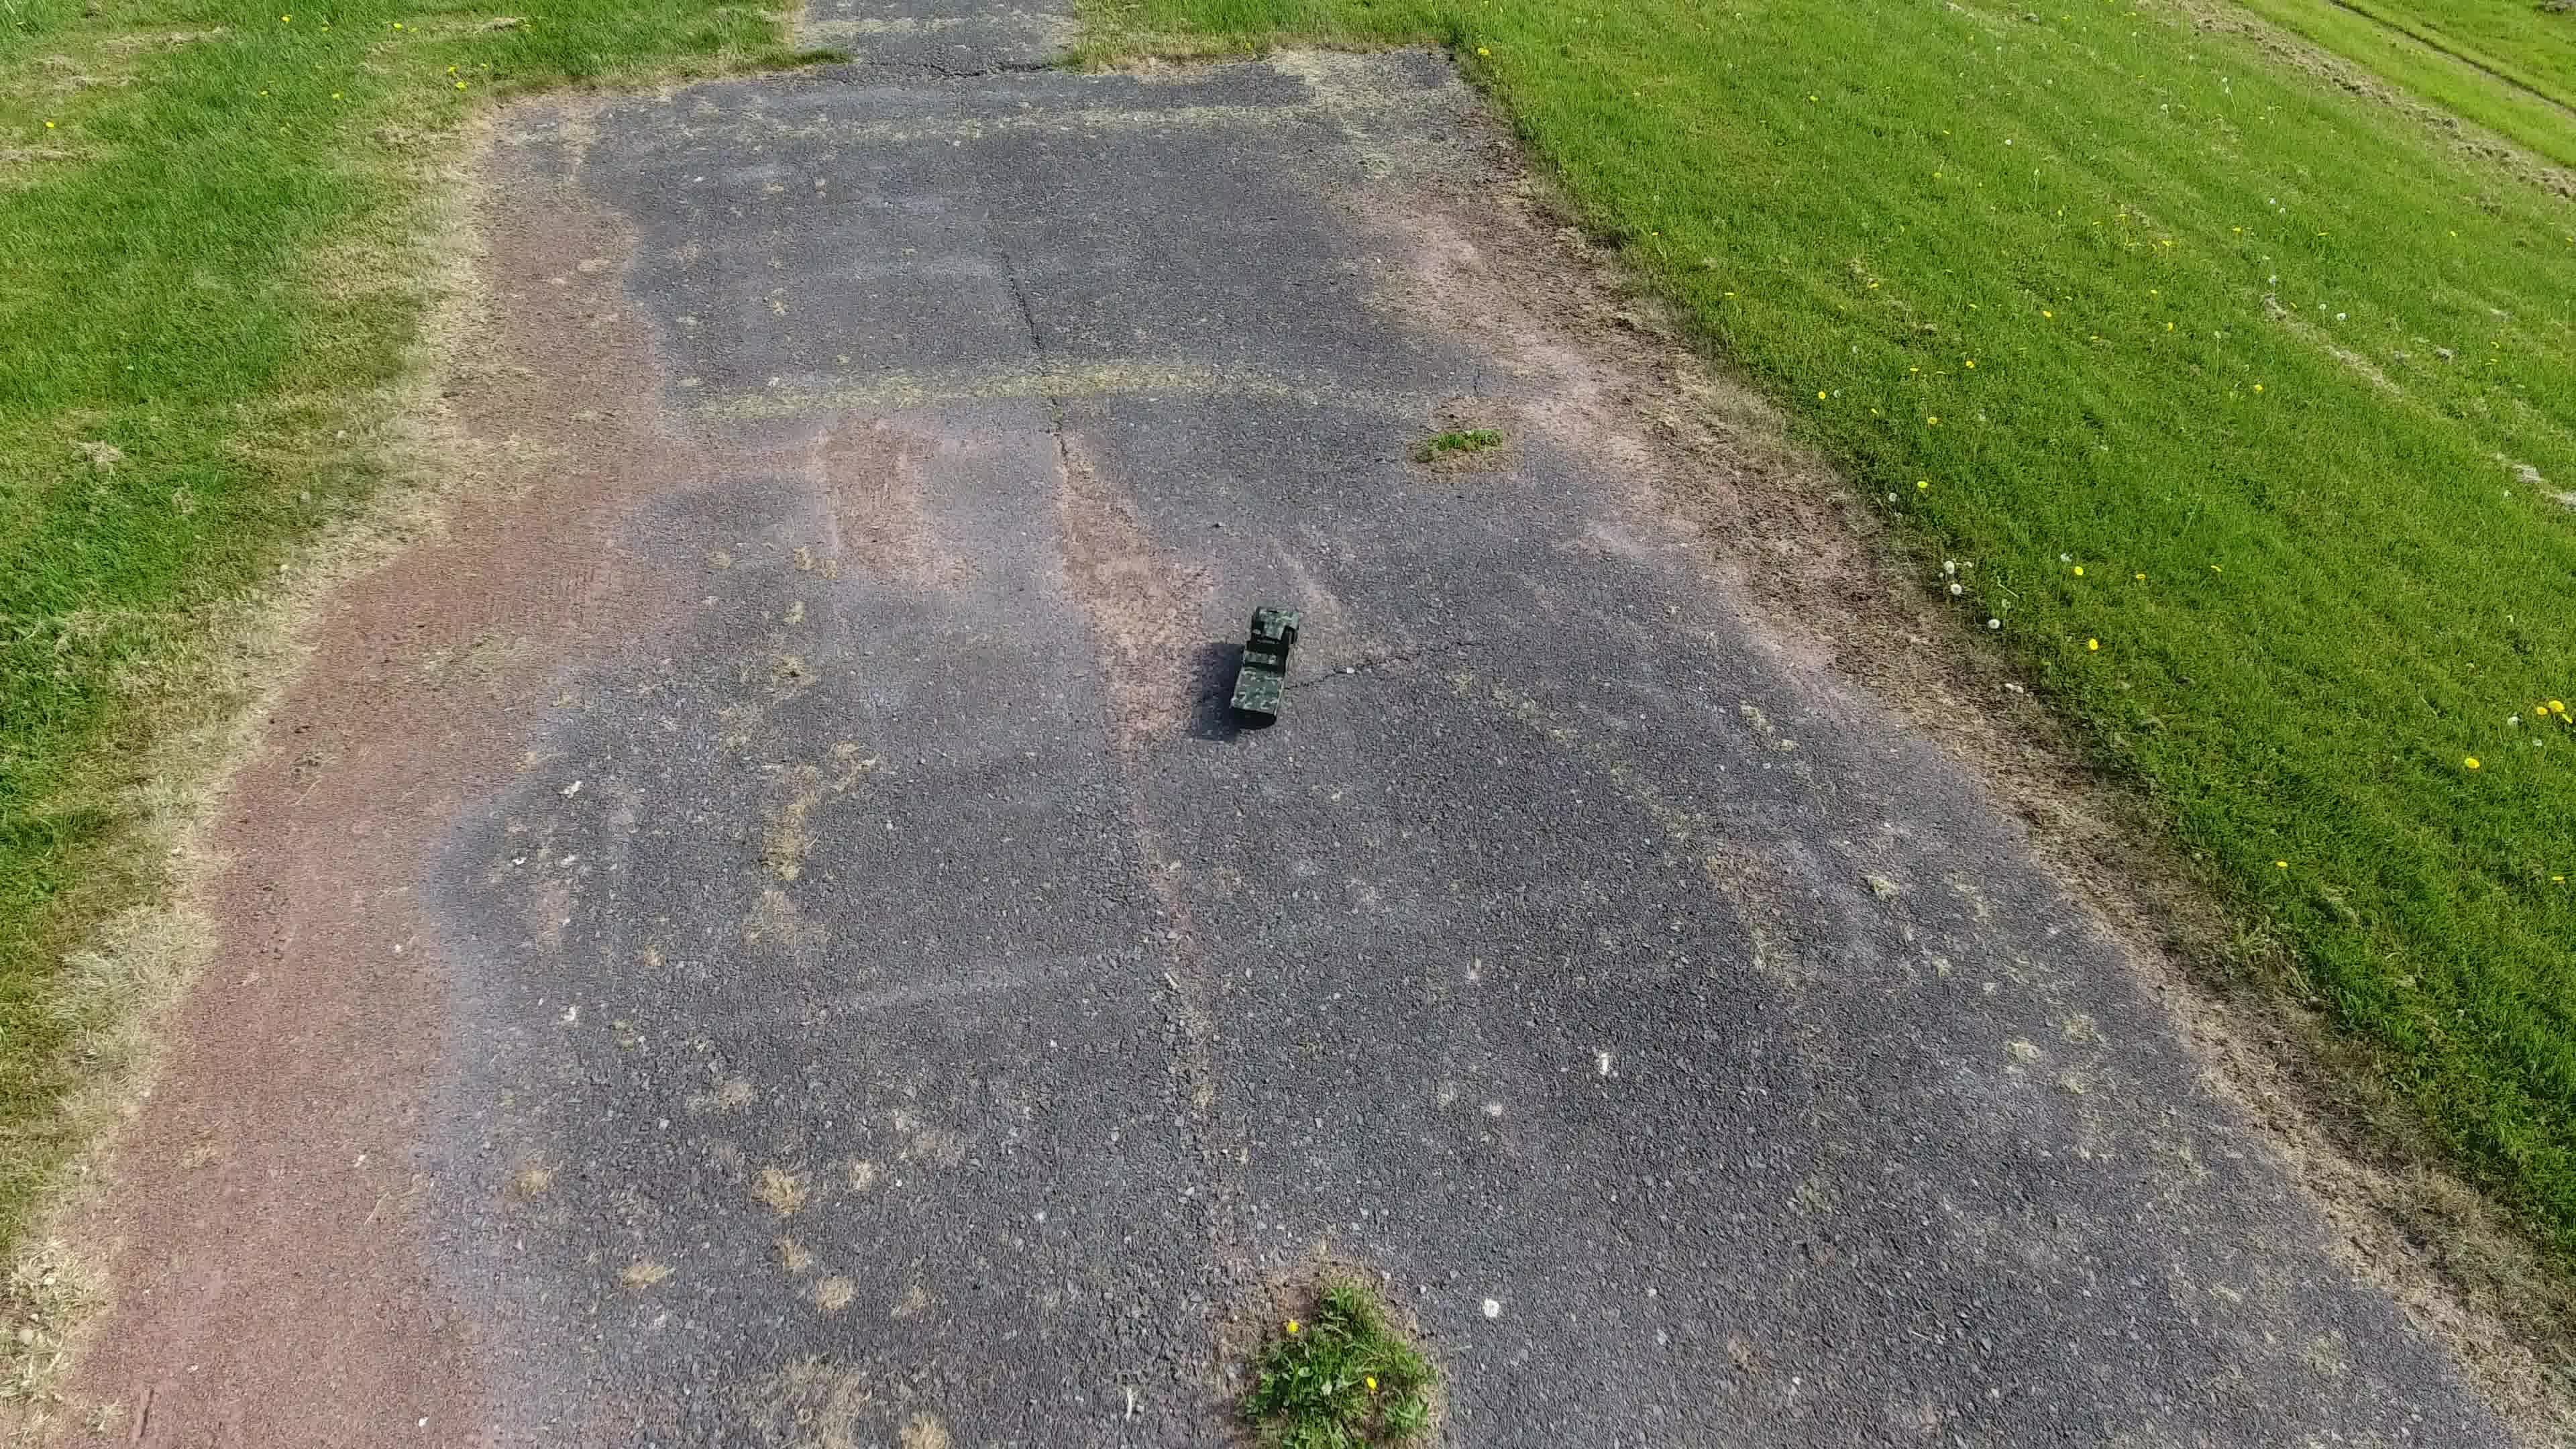transporter9: (1224, 602, 1307, 725)
